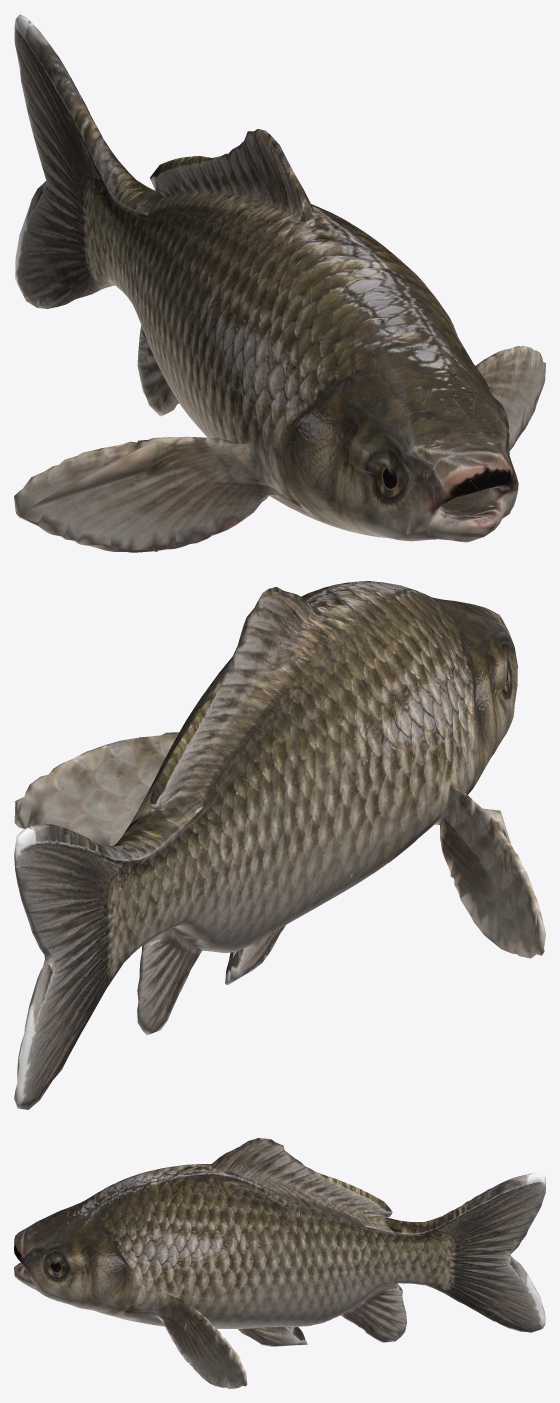
Rendered from fish_crucian.glb.
3 views of the same model, one above another, from view 1: azimuth 30°, elevation 25°; view 2: azimuth 150°, elevation 25°; view 3: azimuth 270°, elevation 25° (orthographic). The views are drawn at different scales.
Parts seen in each view (by area): view 1: geometry_0; view 2: geometry_0; view 3: geometry_0.
Part boxes in pixels (x1,y1,x2,y2): geometry_0: [14, 14, 545, 552]; geometry_0: [14, 581, 545, 1109]; geometry_0: [14, 1138, 545, 1388].
Bounding box in the file's own units: 1.28 × 0.8466 × 1.96.
Materials: 1 (1 with a texture image).
